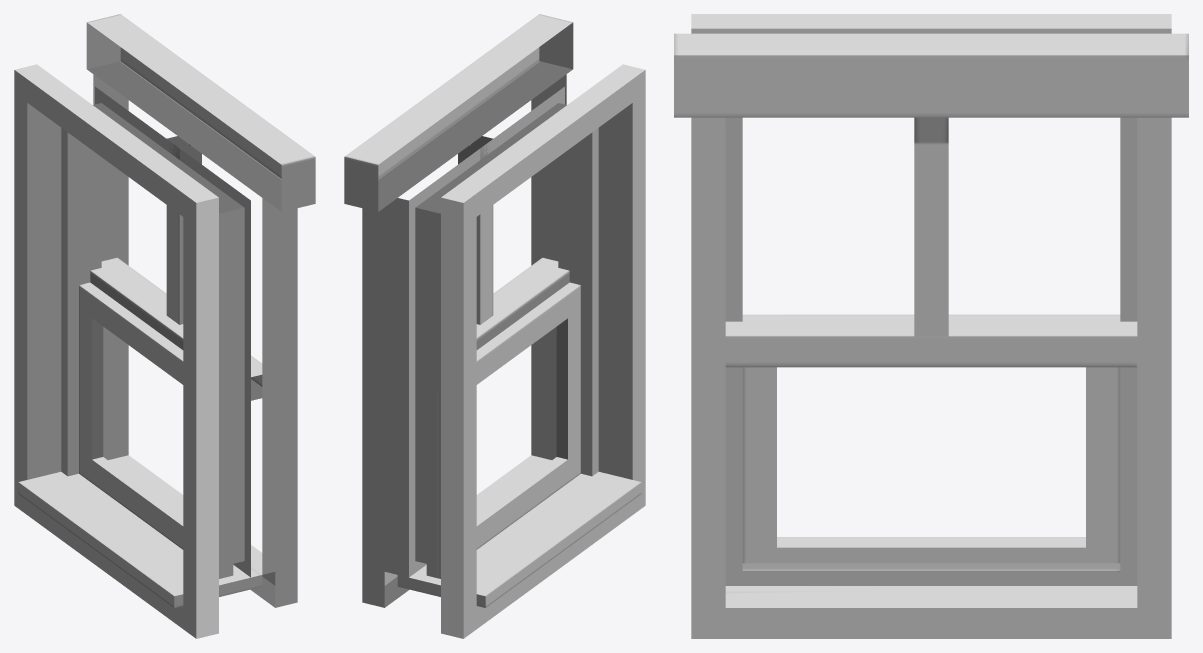
File: office_pack_demoRoom_window_small.fbx
3 renders of one model, left to right at view 1: azimuth 30°, elevation 25°; view 2: azimuth 150°, elevation 25°; view 3: azimuth 270°, elevation 25°, orthographic. The views are drawn at different scales.
Visible parts, largest first — view 1: office_pack_demoRoom_window_small; view 2: office_pack_demoRoom_window_small; view 3: office_pack_demoRoom_window_small.
Part boxes in pixels (<box>): office_pack_demoRoom_window_small: <box>14,14,315,638</box>; office_pack_demoRoom_window_small: <box>344,14,645,638</box>; office_pack_demoRoom_window_small: <box>674,14,1188,638</box>.
Bounding box in the file's own units: 27 × 97.5 × 75.
